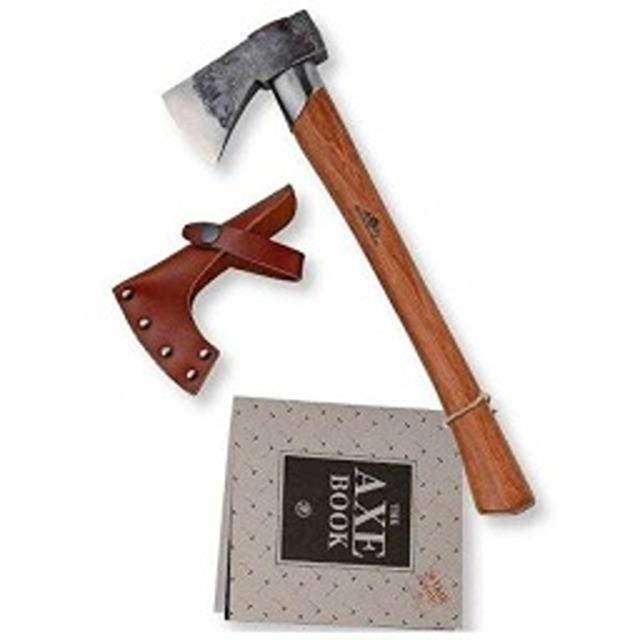ax: (157, 1, 545, 529)
